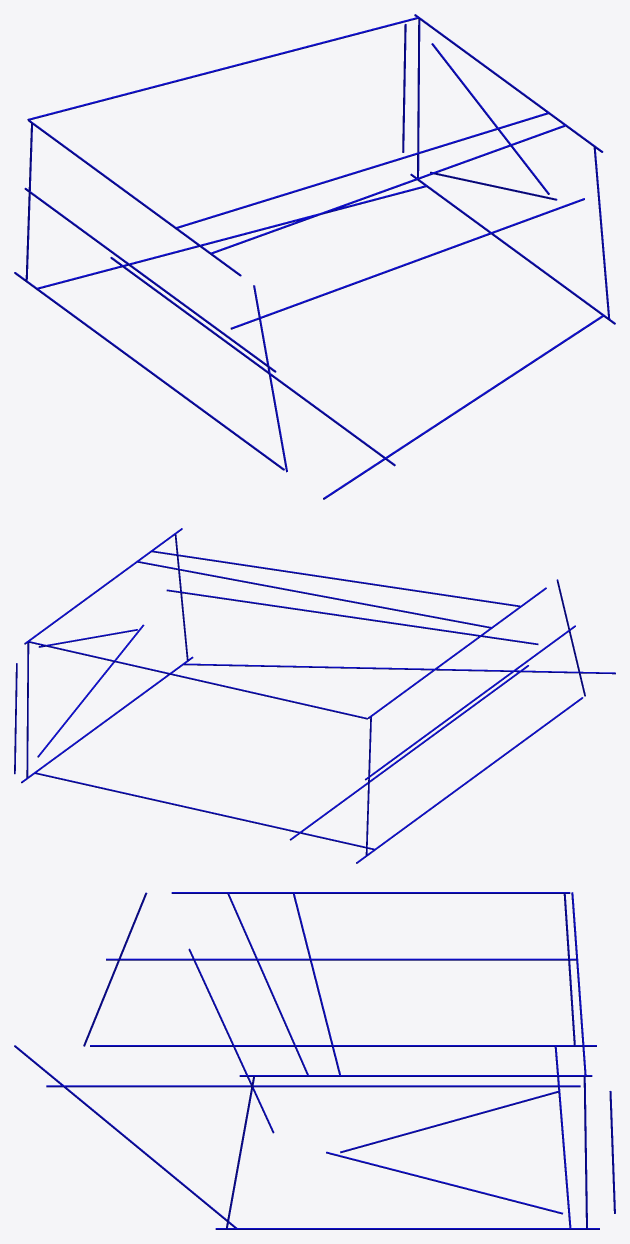
Rendered from corrected_3d_strokes.glb.
3 views of the same model, one above another, from view 1: azimuth 30°, elevation 25°; view 2: azimuth 150°, elevation 25°; view 3: azimuth 270°, elevation 25° (orthographic). The views are drawn at different scales.
Visible parts, largest first — view 1: world; view 2: world; view 3: world.
Part boxes in pixels (box(x1,y1,x2,y2)): world: box(14, 14, 615, 499); world: box(14, 528, 615, 863); world: box(14, 892, 615, 1229).
Bounding box in the file's own units: 8.39 × 3.3 × 11.61.
